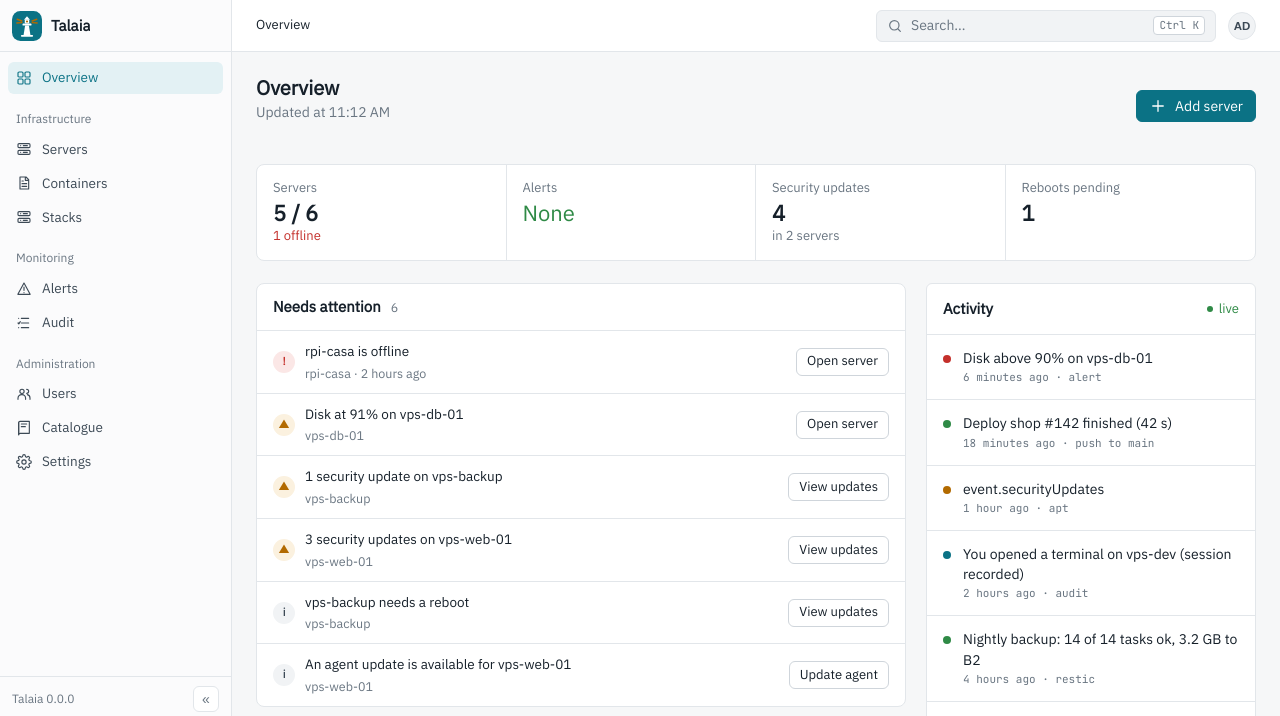
Test: App › updates the URL and the screen when a sidebar link is clicked
Click the link "Settings" at (54, 461), box [16,452,91,470]
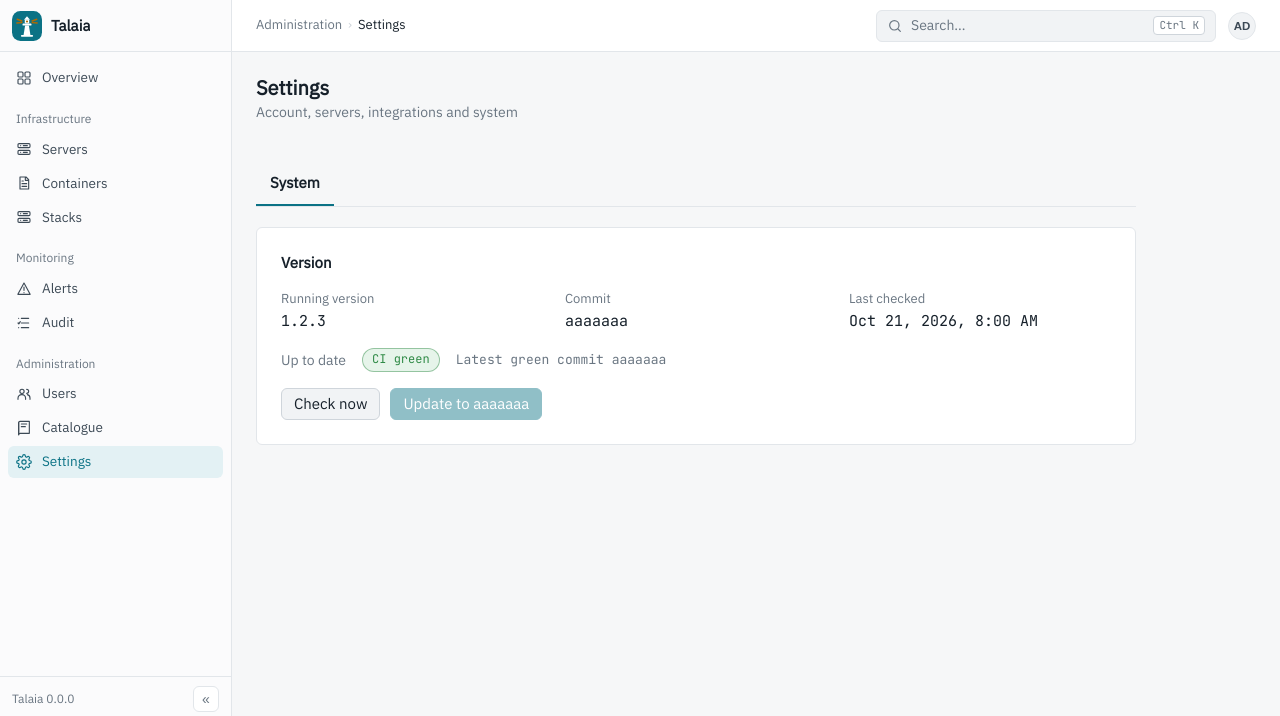
Check: the text "Settings" below "Catalogue" is shown, box [42,452,91,470]
Check: the text "1.2.3" is shown, box [281,311,326,331]
